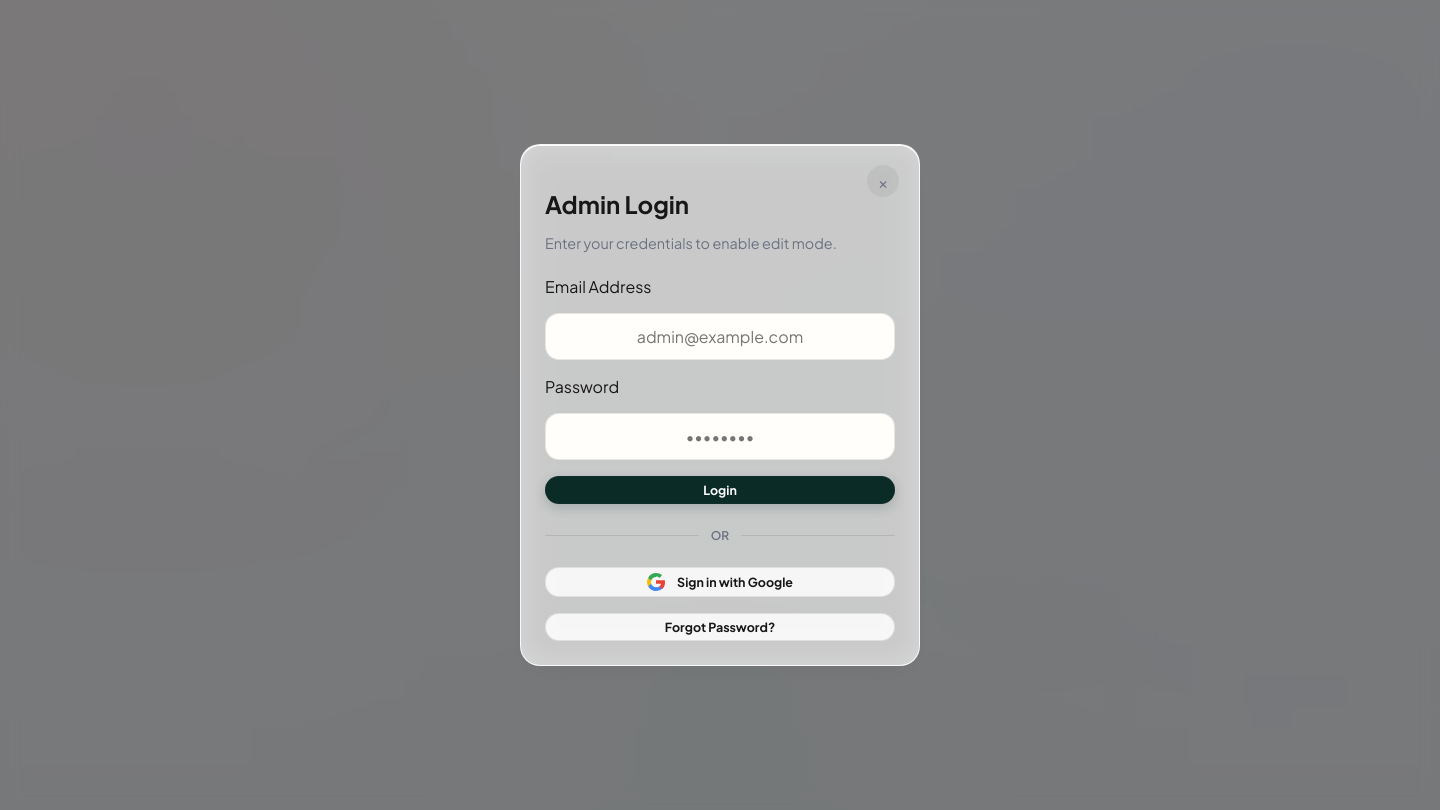
it: AuthModal – Reset Password mode › switches to Reset Password heading after clicking Forgot Password
Click the button "Forgot Password?".
click(720, 627)  # box 545,613 -> 895,641
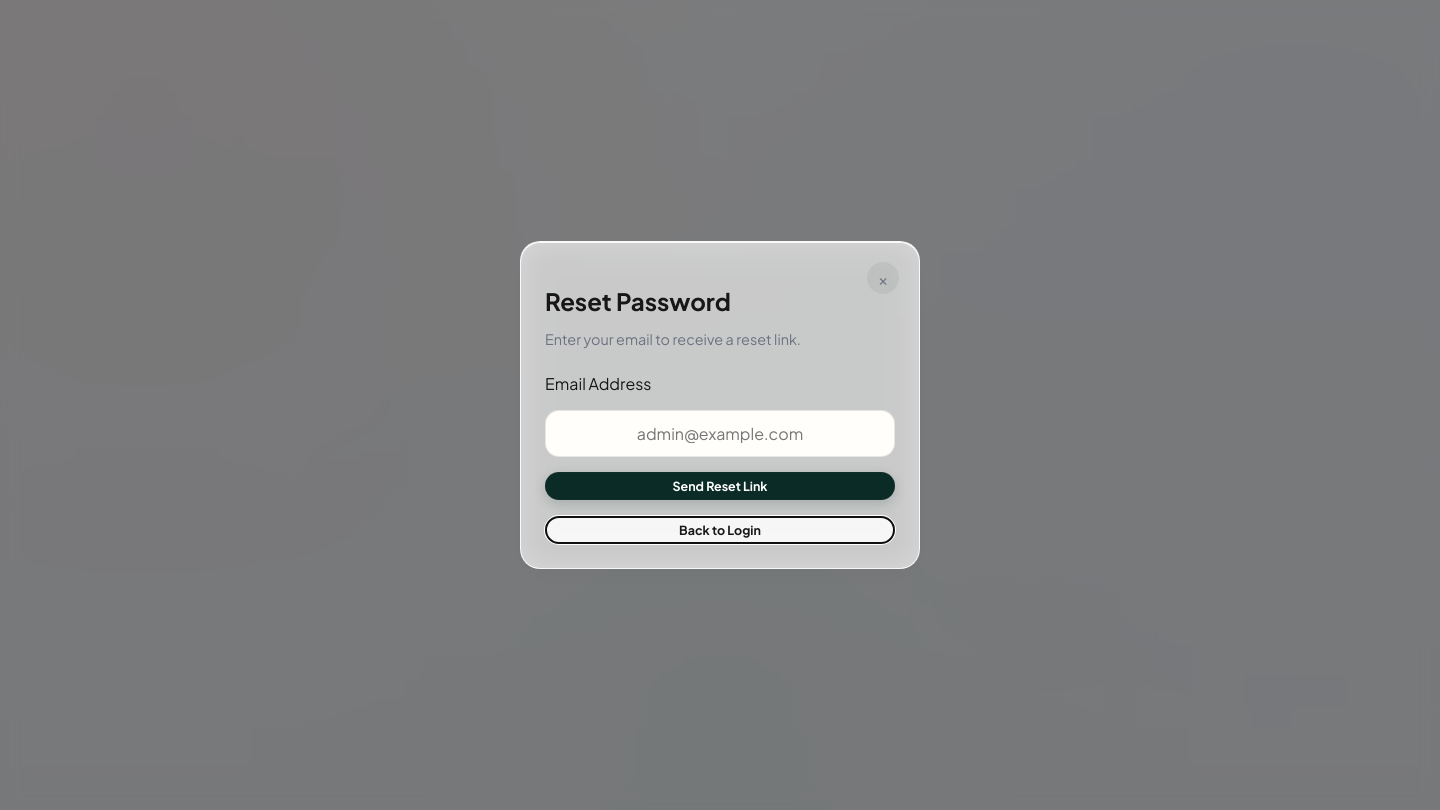
Expected: the heading "Reset Password" is shown, 545,286 -> 731,316
